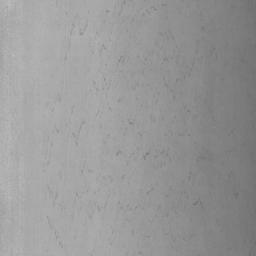Silk spot: (72, 121, 85, 139)
